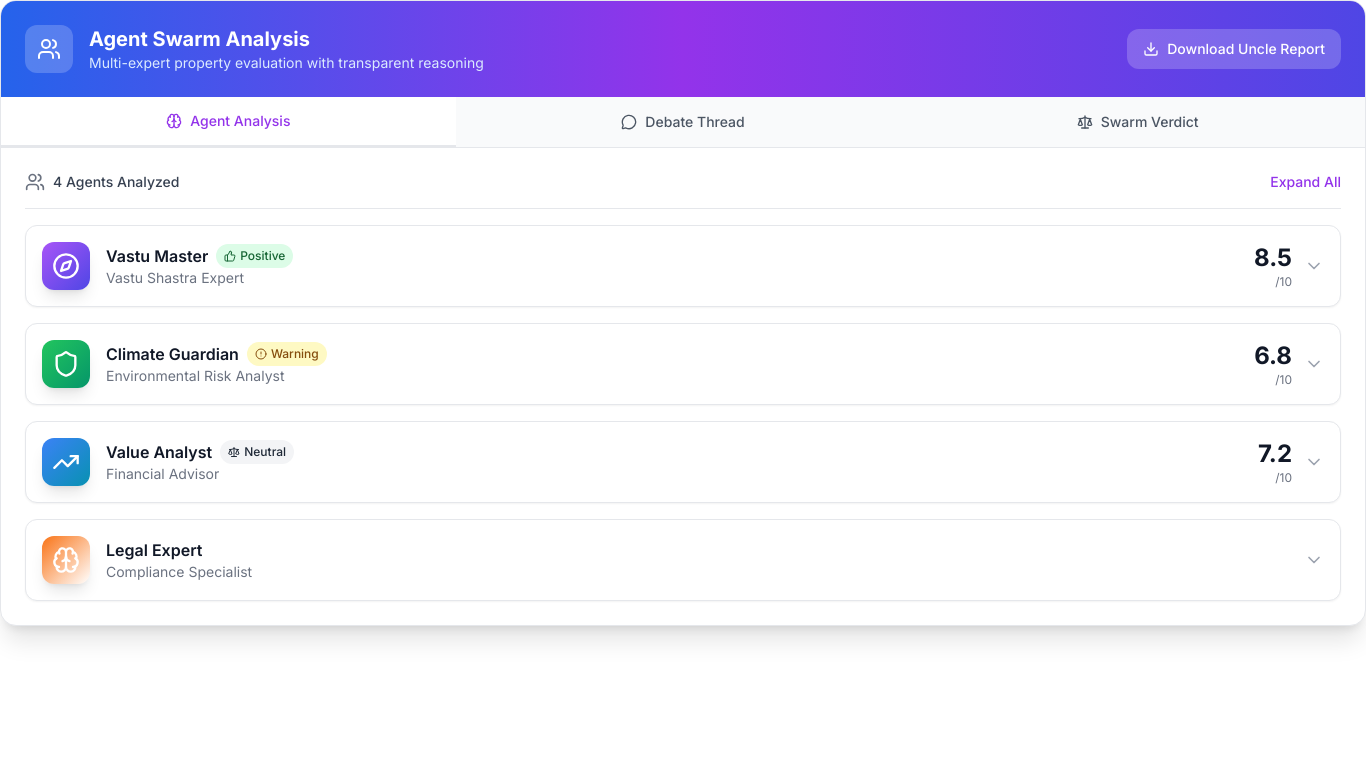
it: DebatePanel Component › Agent Analysis Tab › should expand agent card when clicked
Click the button "Vastu Master" at (66, 266), box top-left (26, 226), bottom-right (1340, 306)
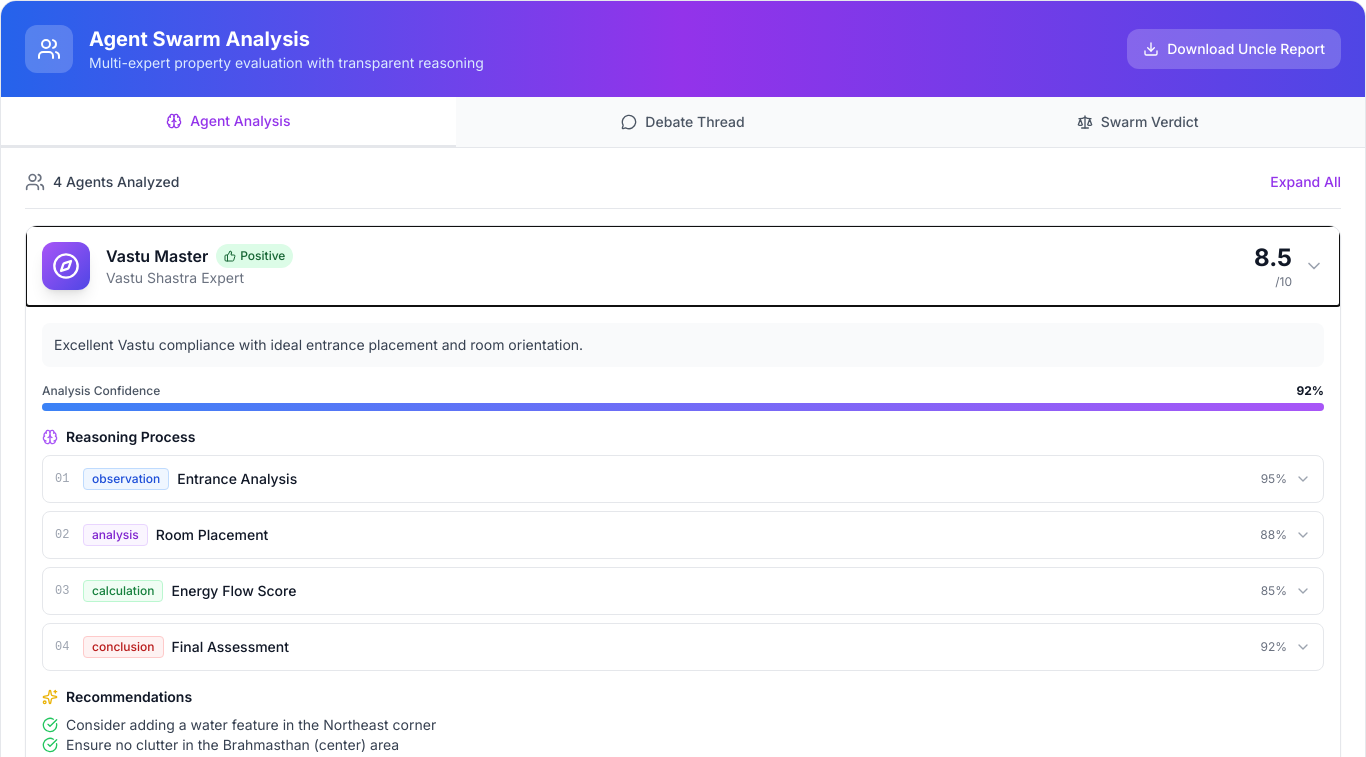
expect the text "Excellent Vastu compliance with ideal entrance placement" is shown: met, box top-left (54, 336), bottom-right (583, 353)
